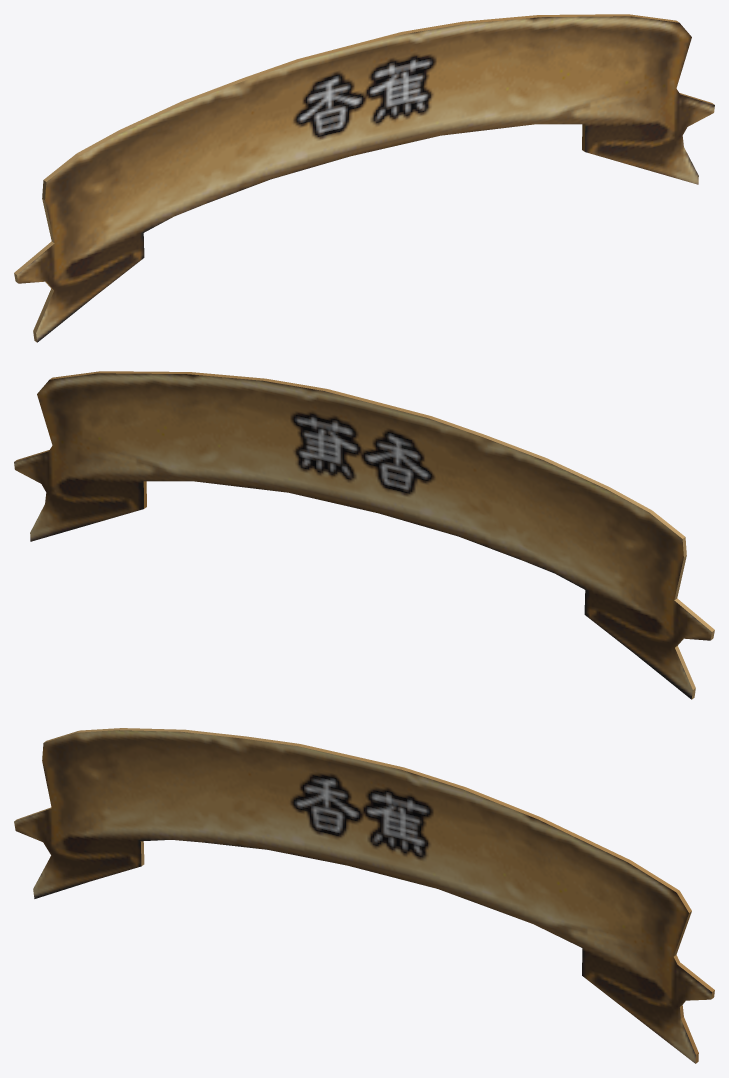
The model's file is NameTag.glb.
The picture shows the model from 3 angles, top to bottom: view 1: azimuth 30°, elevation 25°; view 2: azimuth 150°, elevation 25°; view 3: azimuth 330°, elevation 25°; orthographic projection.
Visible parts, largest first — view 1: Circle.002; view 2: Circle.002; view 3: Circle.002.
Part boxes in pixels (x1=…): Circle.002: x1=14, y1=14, x2=714, y2=342; Circle.002: x1=14, y1=371, x2=714, y2=699; Circle.002: x1=14, y1=728, x2=714, y2=1063.
Size of the model in its own units: 6.9 by 2.1 by 0.05.
Materials: 1 (1 with a texture image).
